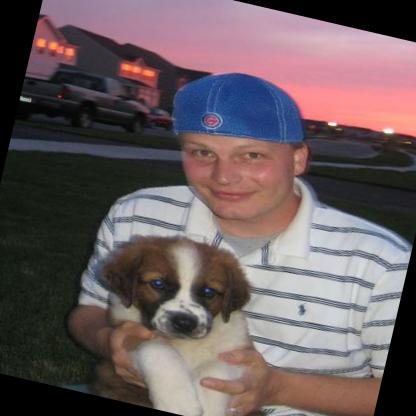Saint_Bernard: (73, 216, 292, 416)
